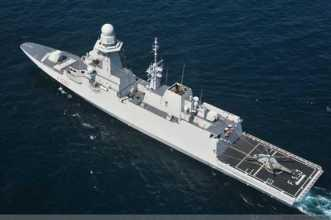warship: (12, 20, 327, 202)
